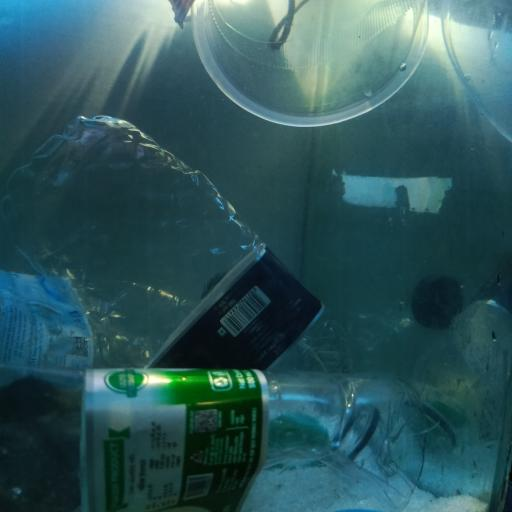bottle_cap: (411, 271, 466, 329), (270, 413, 334, 456)
plastic_bottle: (2, 110, 392, 458), (0, 360, 420, 512), (3, 275, 323, 401)
plastic_cup: (193, 0, 437, 131)
